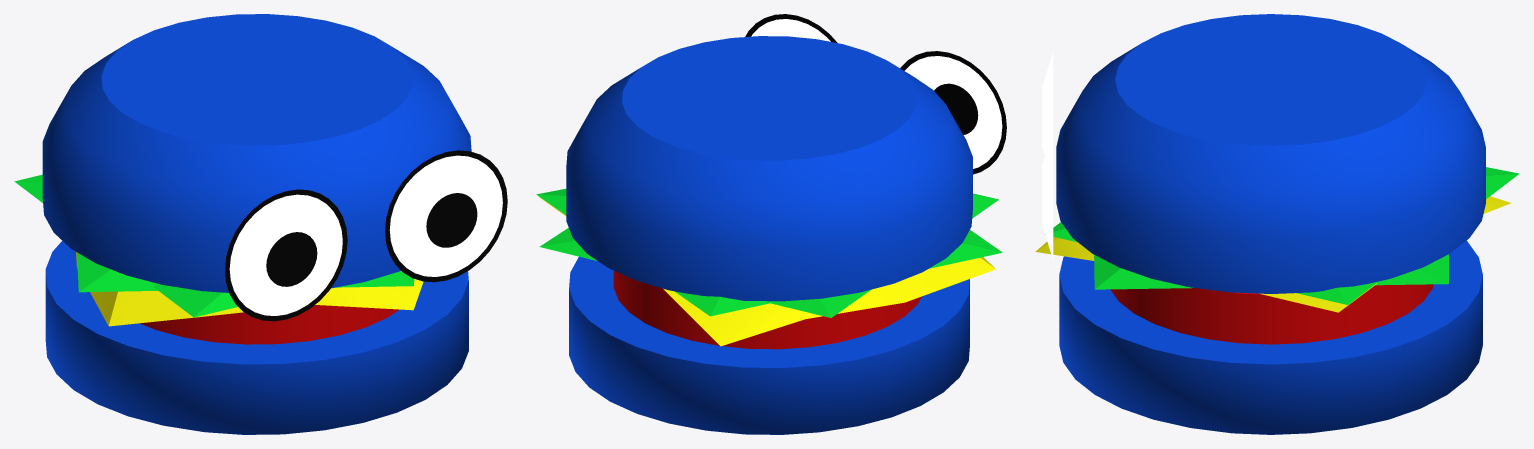
File: Burger.glb
The picture shows the model from 3 angles, left to right: view 1: azimuth 30°, elevation 25°; view 2: azimuth 150°, elevation 25°; view 3: azimuth 270°, elevation 25°; orthographic projection. The views are drawn at different scales.
Parts seen in each view (by area): view 1: Burger; view 2: Burger; view 3: Burger.
Part boxes in pixels (x1=…): Burger: x1=14, y1=14, x2=507, y2=434; Burger: x1=536, y1=14, x2=1006, y2=434; Burger: x1=1035, y1=14, x2=1519, y2=434.
Bounding box in the file's own units: 2.74 × 1.68 × 2.73.
